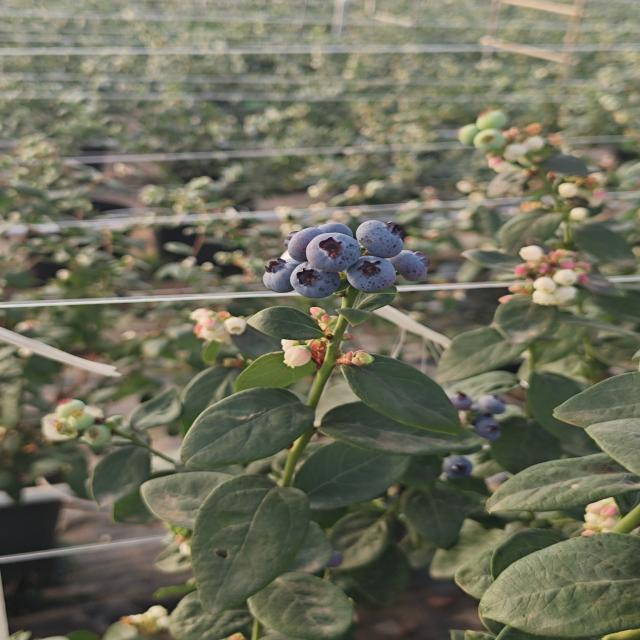ripe: (290, 258, 346, 301), (304, 231, 360, 270), (358, 218, 409, 259), (281, 222, 329, 263), (260, 260, 300, 292), (353, 263, 395, 292), (441, 450, 479, 481), (395, 251, 433, 282), (474, 391, 509, 416), (317, 218, 355, 238), (443, 390, 472, 416), (473, 420, 507, 440)
